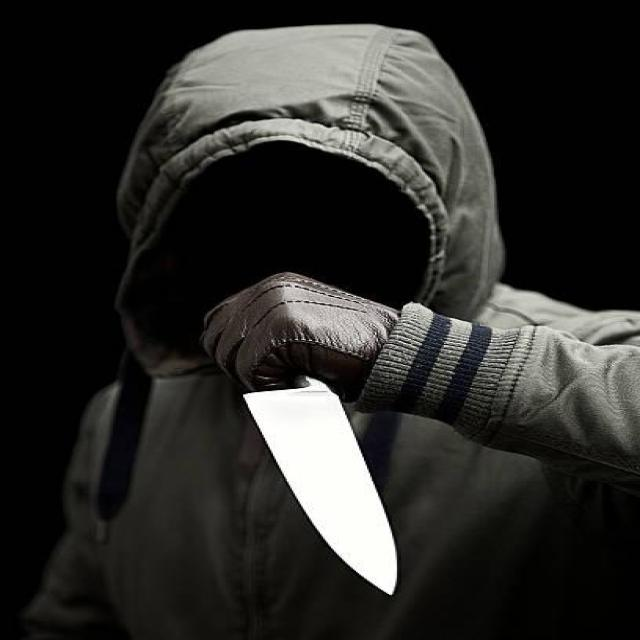faca: (184, 256, 432, 614)
